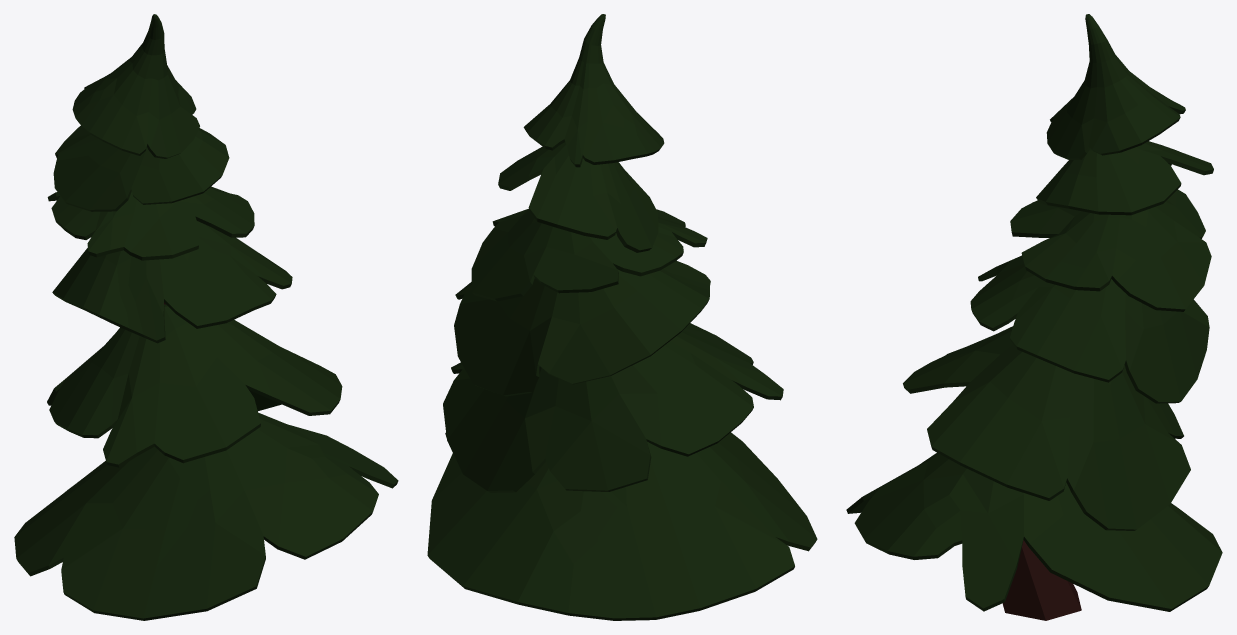
The model's file is PineTree_3.glb.
3 views of the same model, side by side, from view 1: azimuth 30°, elevation 25°; view 2: azimuth 150°, elevation 25°; view 3: azimuth 270°, elevation 25° (orthographic). The views are drawn at different scales.
Visible parts, largest first — view 1: PineTree_3_Cylinder.025; view 2: PineTree_3_Cylinder.025; view 3: PineTree_3_Cylinder.025.
Boxes of the visible parts, x1,y1,x2,y2 form: PineTree_3_Cylinder.025: [14, 14, 398, 620]; PineTree_3_Cylinder.025: [427, 14, 817, 620]; PineTree_3_Cylinder.025: [846, 14, 1222, 620].
Bounding box in the file's own units: 2.16 × 3.3 × 1.95.
